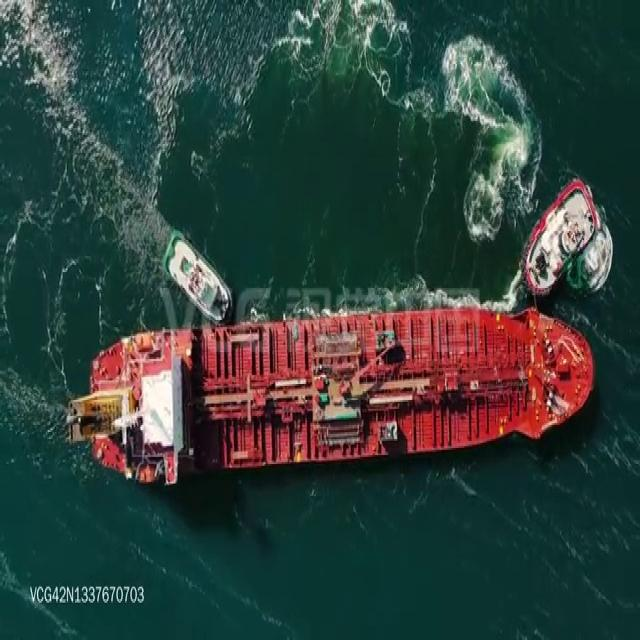cargoship: (68, 316, 594, 470)
houseboat: (517, 175, 596, 293), (162, 226, 231, 324)
